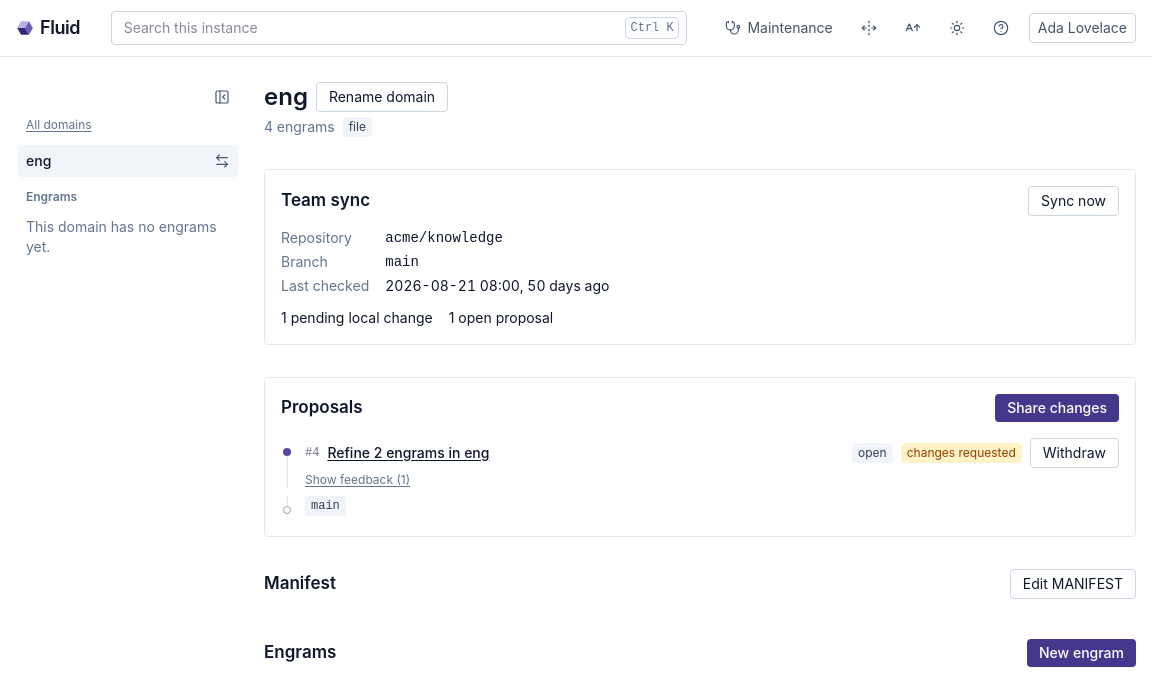
Test: the proposals card › keeps a refused withdraw on the row rather than swallowing it
The image size is (1152, 680).
Click the button "Withdraw" at (1074, 453), box [1030,438,1119,468]
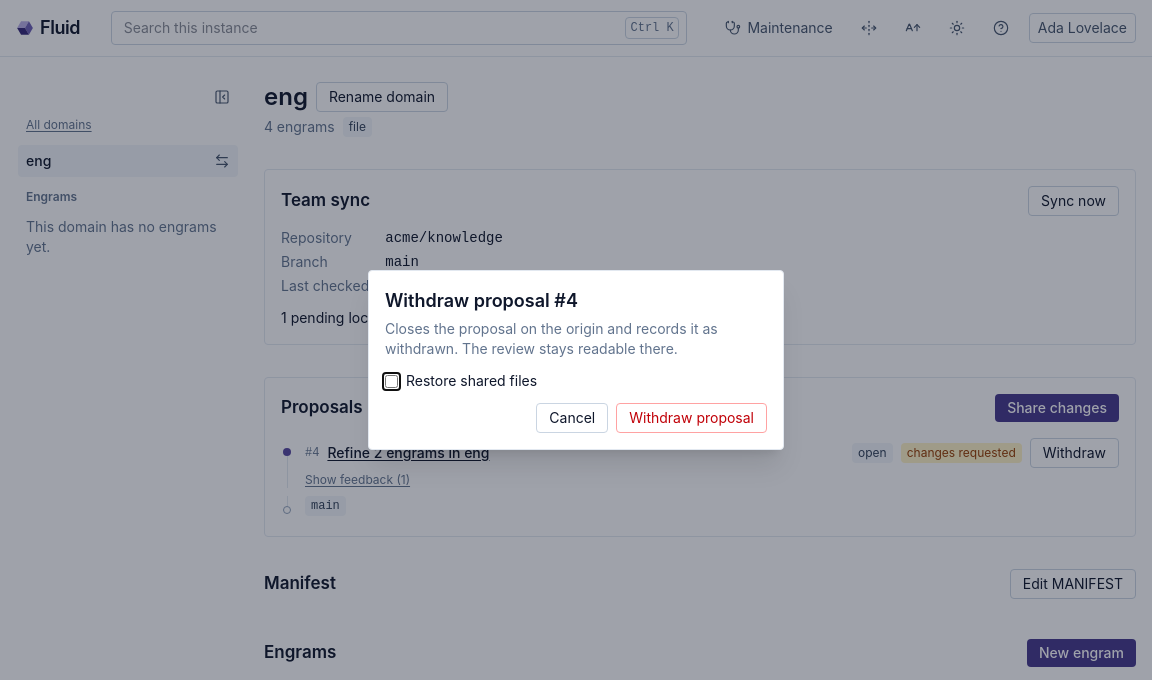
Click the button "Withdraw proposal" at (692, 418), box [616,403,767,433]
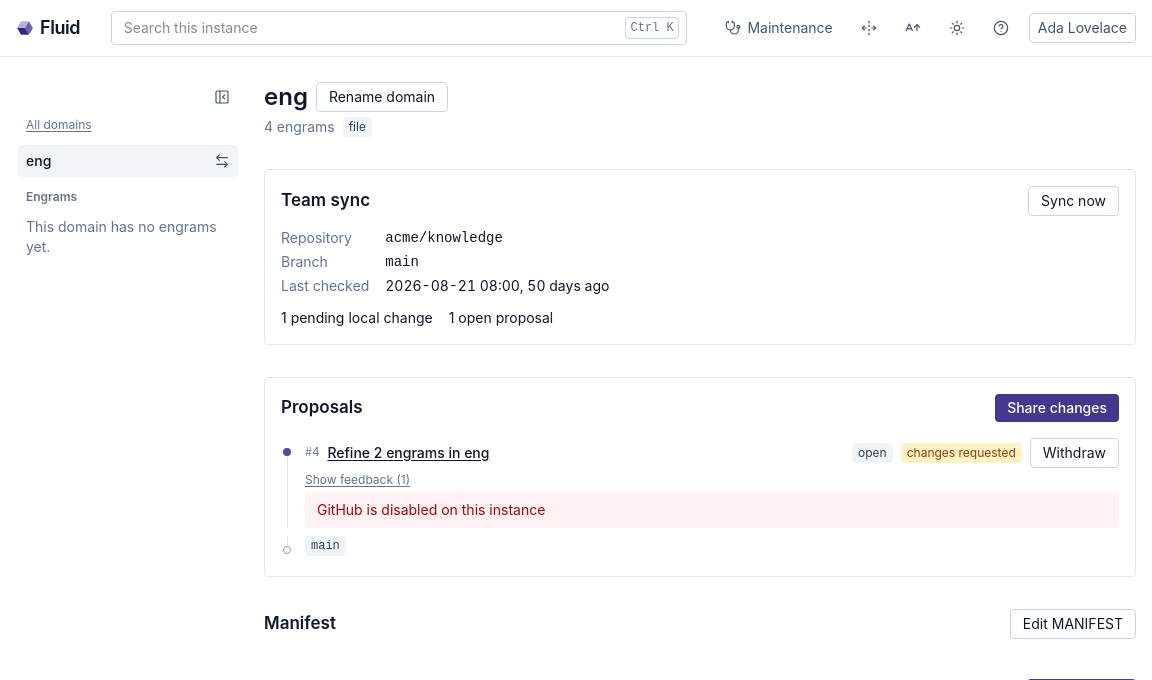
Now the message reads "GitHub is disabled on this instance", box [317,501,545,518]
